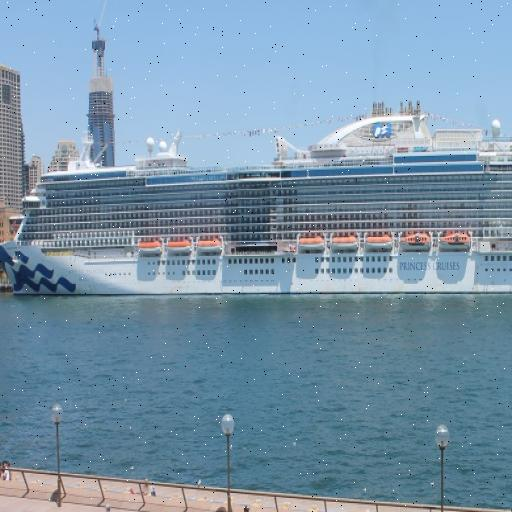cruises: (1, 78, 512, 314)
